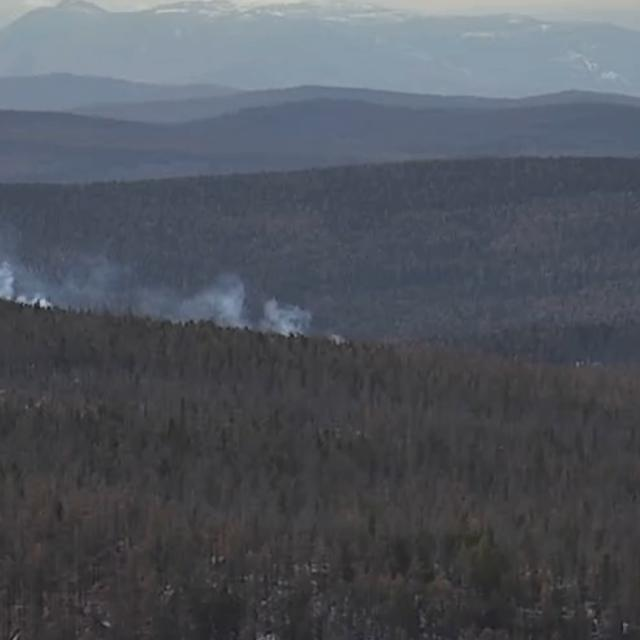Smoke: (188, 276, 315, 338), (0, 229, 52, 308)
